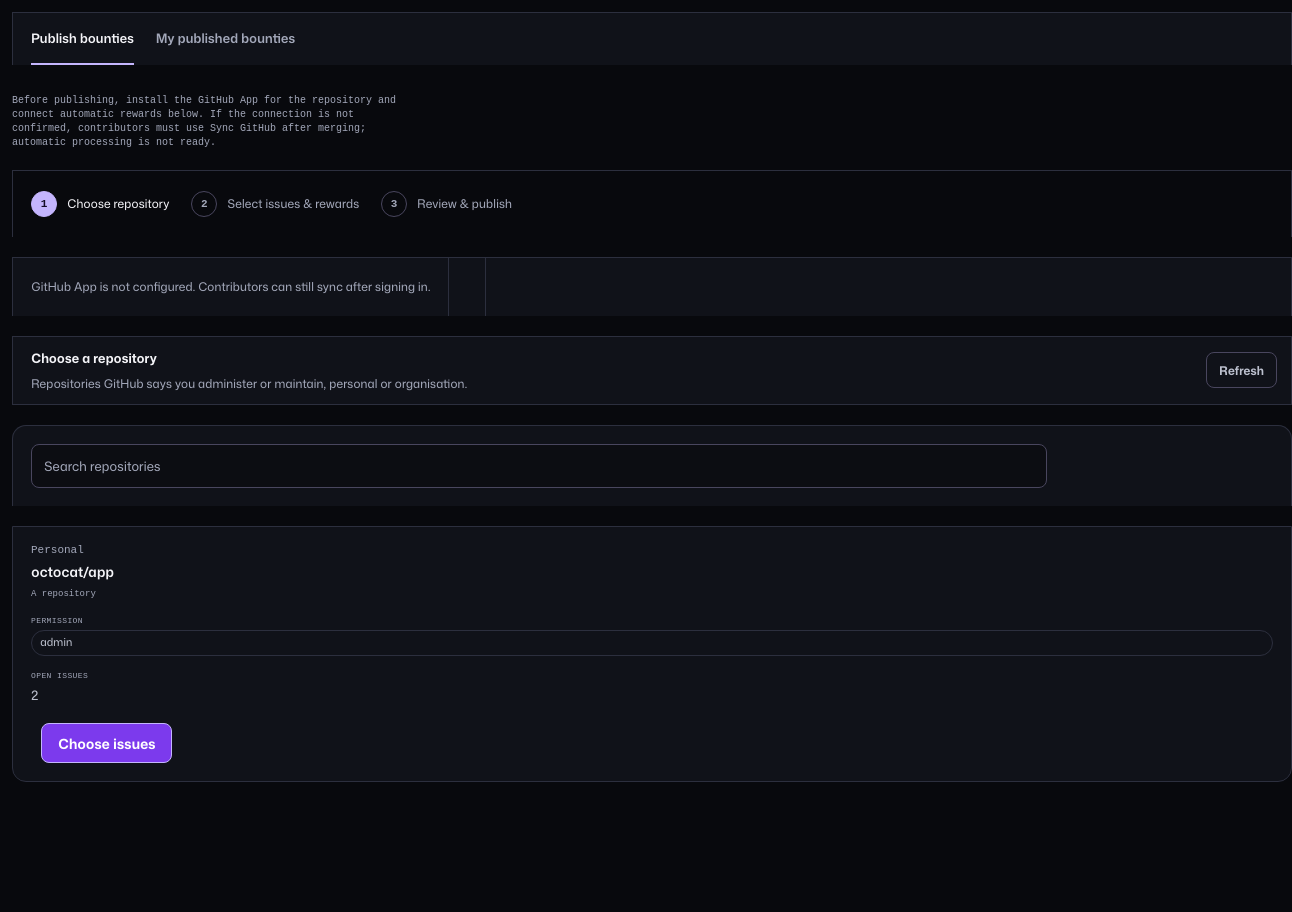
Test: managing what was published › is honestly empty before anything is published
This screenshot has width=1292, height=912.
Click the tab "My published bounties": click(225, 39) [156,13,295,65]
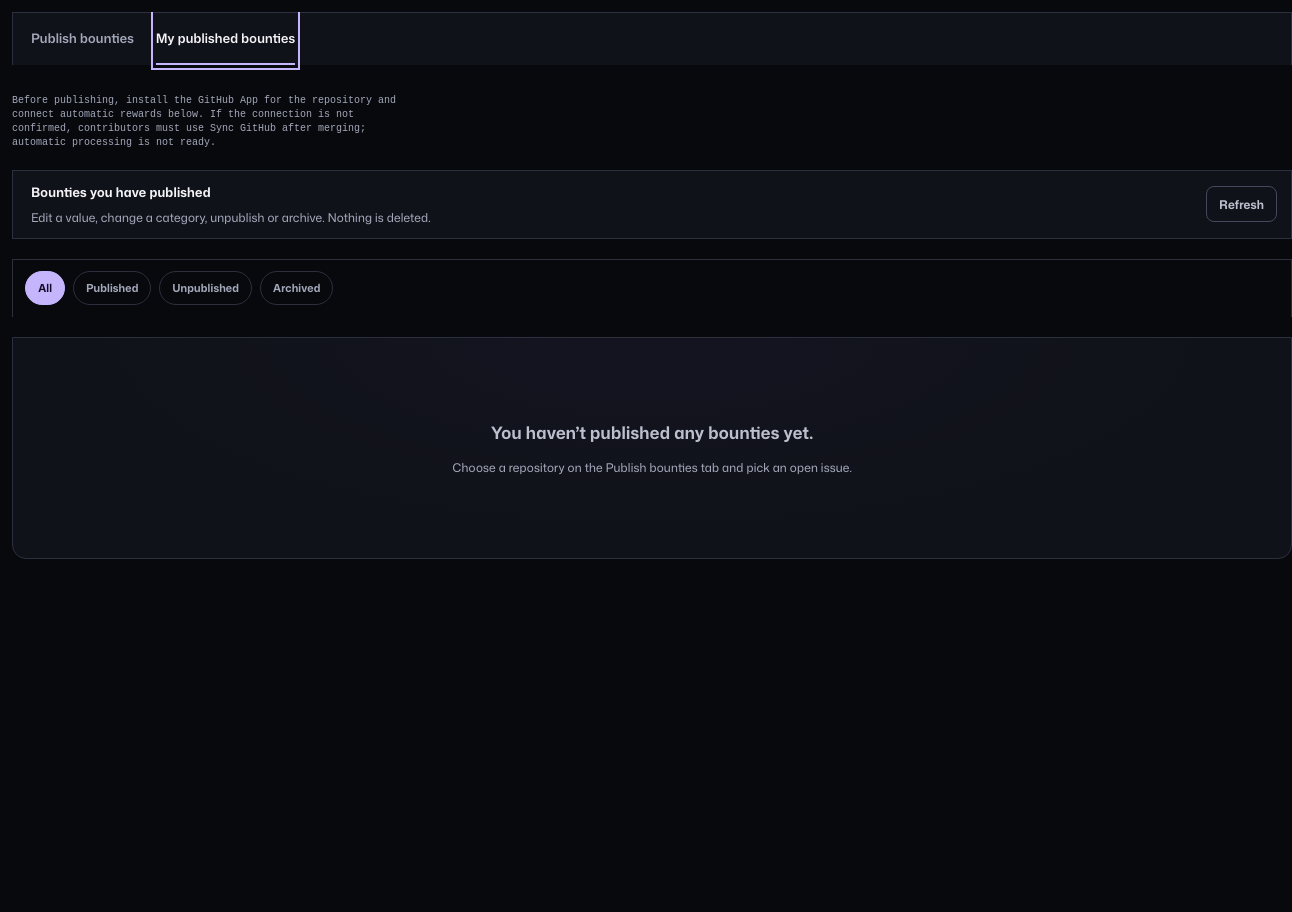
Expected: the text "You haven’t published any bounties yet." is shown, [491,419,813,446]
